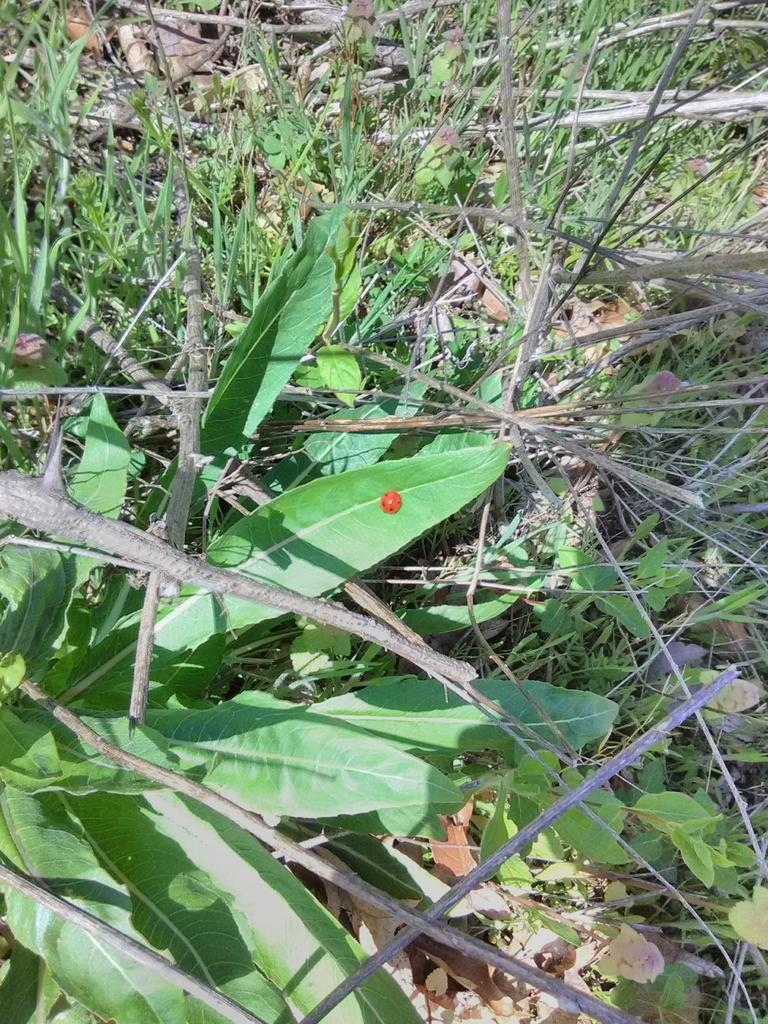ladybug: (379, 484, 409, 524)
